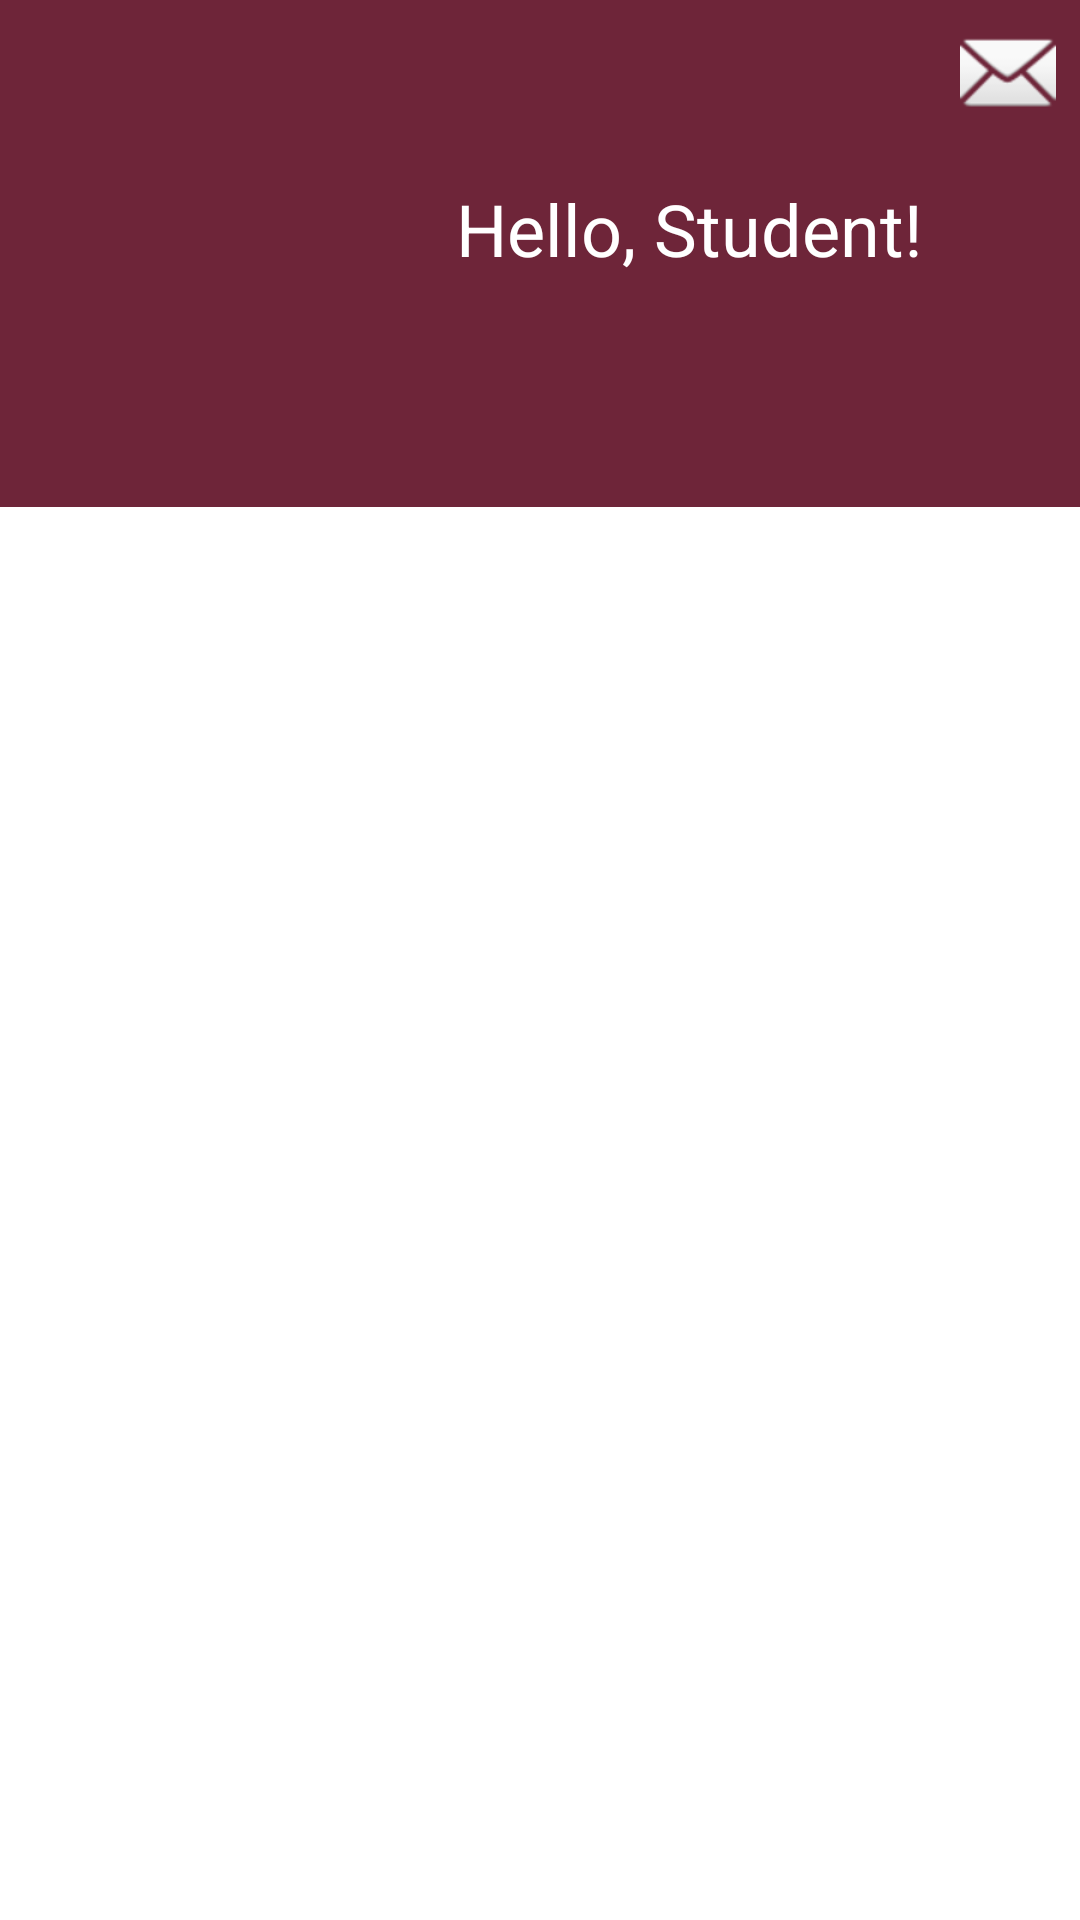

Icons on this 1080*1920 Android screen, each with its box as Rect(x1, y1, x2, y2):
email: Rect(960, 39, 1056, 107)
